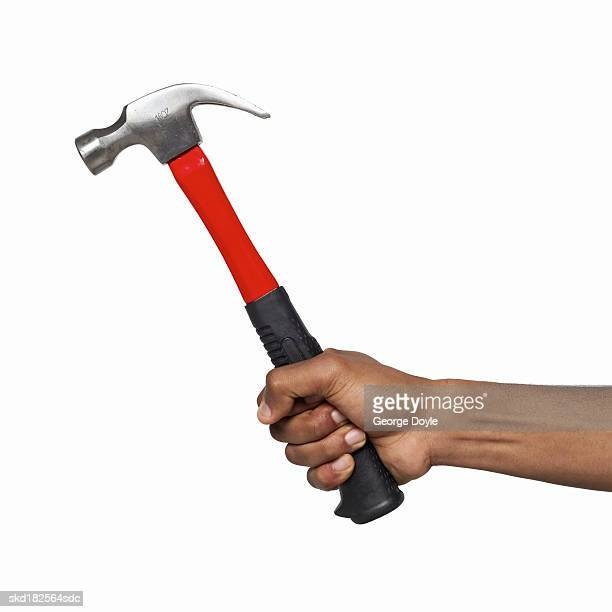hammer: (73, 81, 409, 527)
